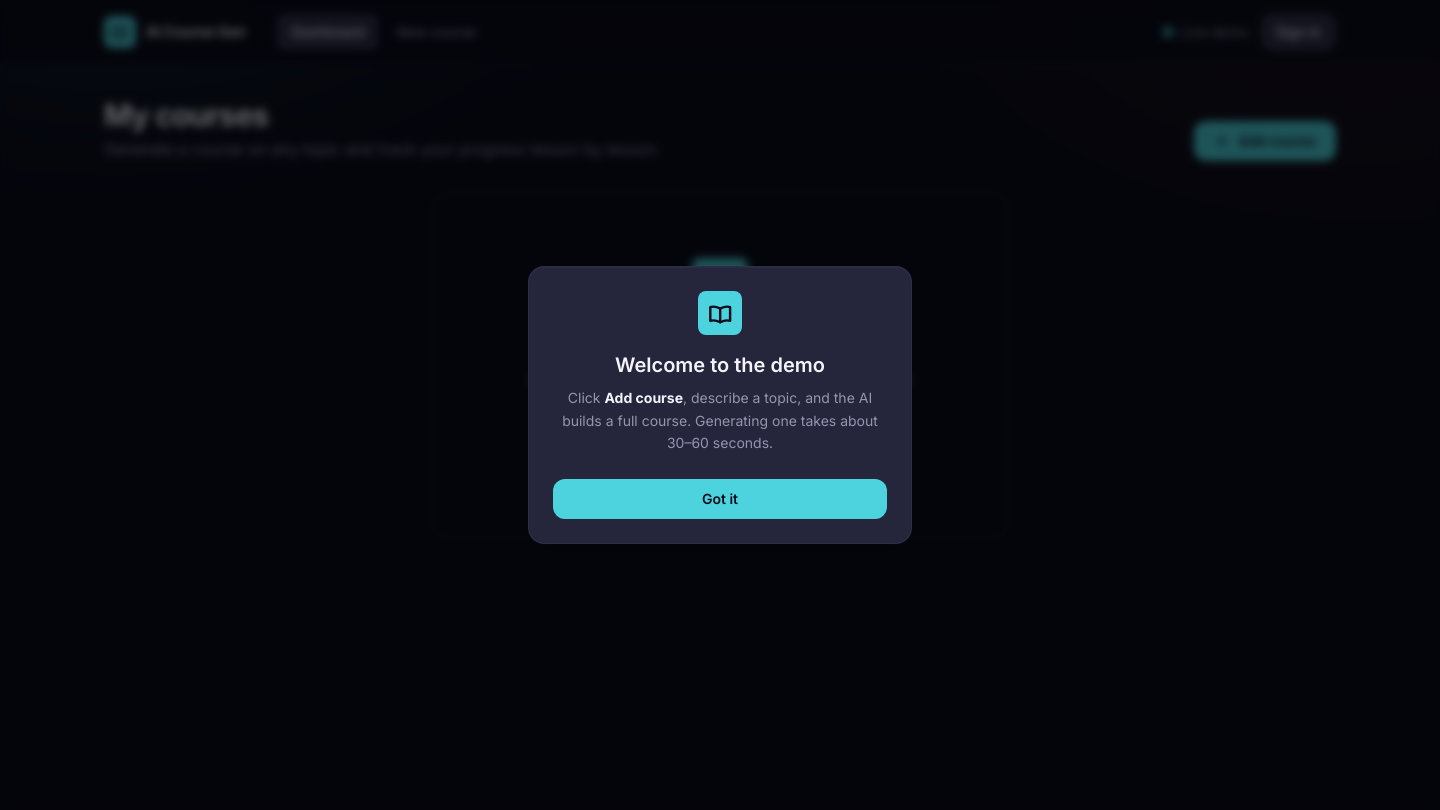
Test: shows the welcome modal only on the first visit
The image size is (1440, 810).
Expected: the dialog shows "Welcome to the demo", [615,353,825,377]
Click the button "Got it" at {"x": 720, "y": 499}, box [553,479,887,519]
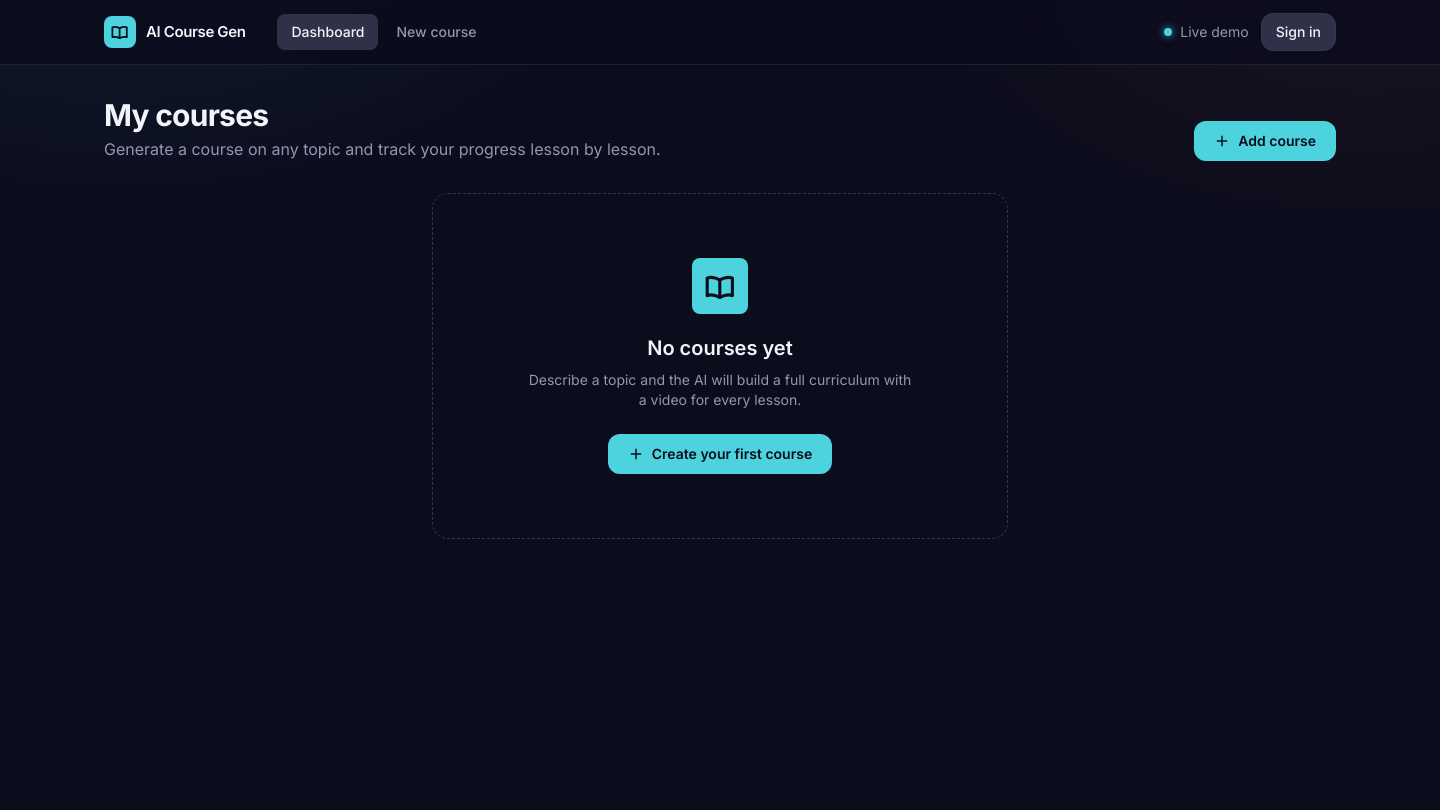
Expected: the dialog is gone
